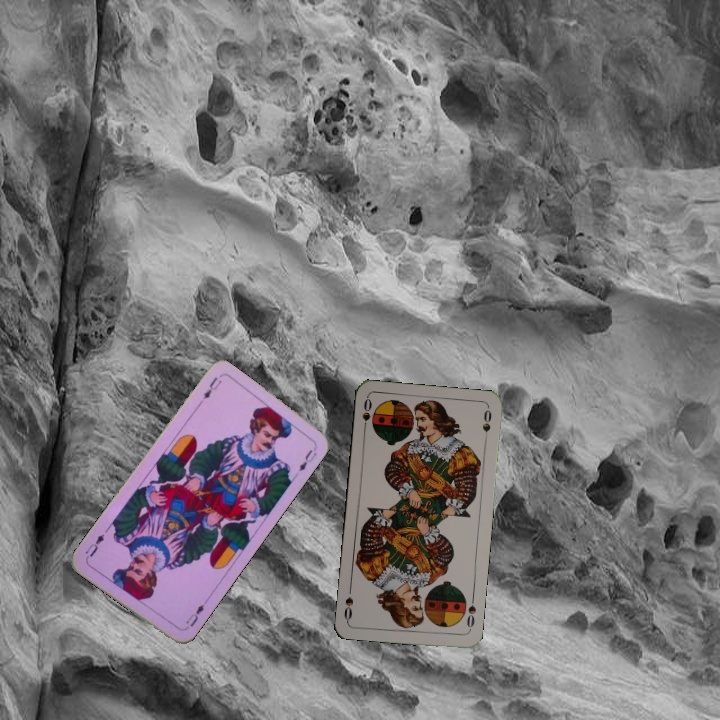EU: (181, 596, 208, 629), (199, 373, 224, 402)
SO: (358, 394, 374, 435), (462, 593, 478, 634)
